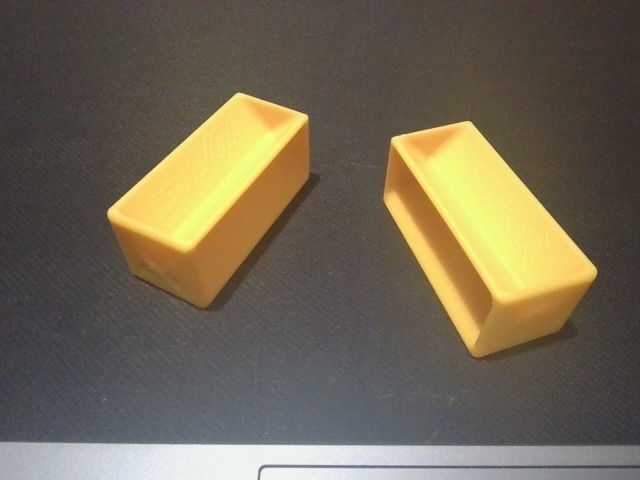YellowSample: (378, 120, 599, 362), (102, 88, 314, 313)
